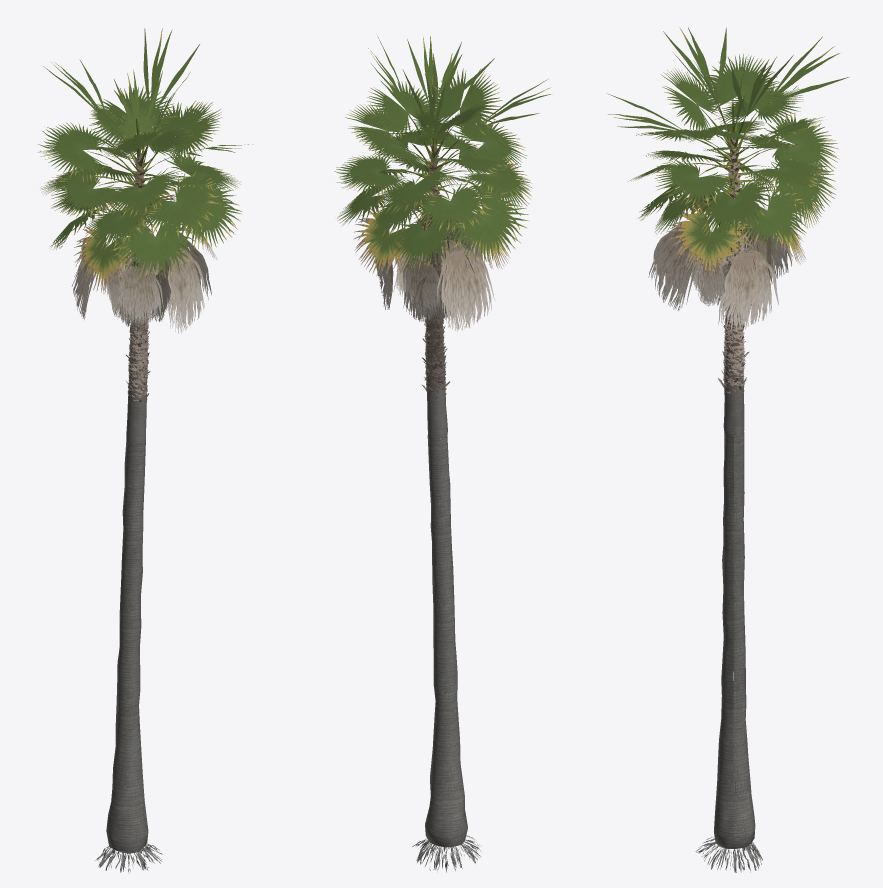
File: palm_washingtonia_tall.glb
3 views of the same model, side by side, from view 1: azimuth 30°, elevation 25°; view 2: azimuth 150°, elevation 25°; view 3: azimuth 270°, elevation 25° (orthographic). The views are drawn at different scales.
Visible parts, largest first — view 1: palm_washingtonia_tall; view 2: palm_washingtonia_tall; view 3: palm_washingtonia_tall.
Part boxes in pixels (x1,y1,x2,y2): palm_washingtonia_tall: (37, 28, 252, 872); palm_washingtonia_tall: (334, 36, 550, 872); palm_washingtonia_tall: (607, 27, 848, 872).
Size of the model in its own units: 4.83 by 16.85 by 5.04.
Materials: 5 (5 with a texture image).
